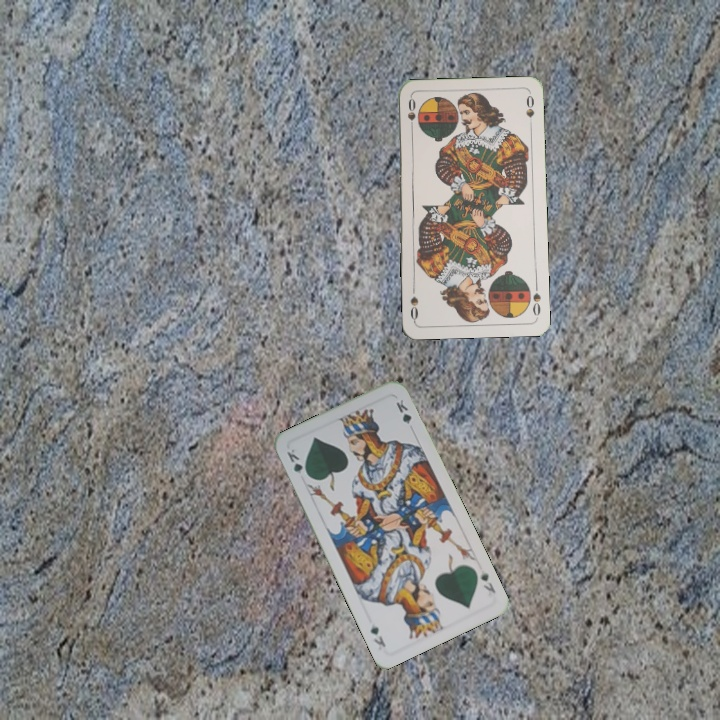GK: (283, 445, 311, 480), (476, 566, 498, 596)
SO: (404, 94, 418, 135), (529, 279, 543, 318)
